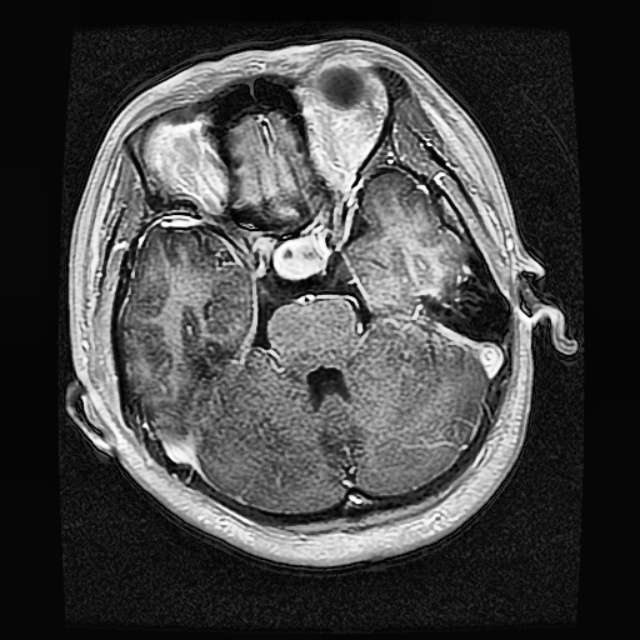Pituitary: (273, 234, 328, 279)
